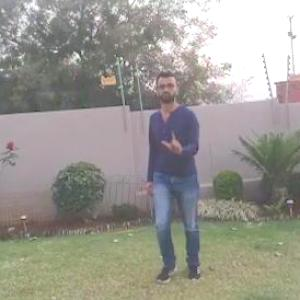land_hand: (156, 124, 189, 156)
